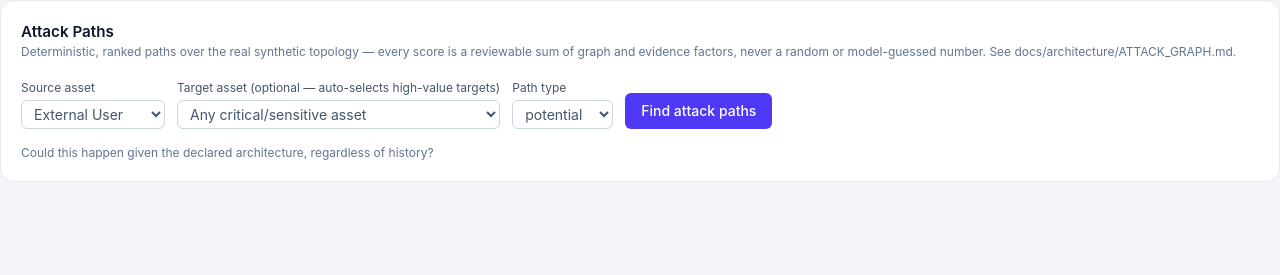
Test: Attack Paths panel › shows an empty state when no path is found
What coordinates should you click on to do the following:
click the button "Find attack paths"
I would click on:
 (699, 111)
Its box is [625,93,772,129].
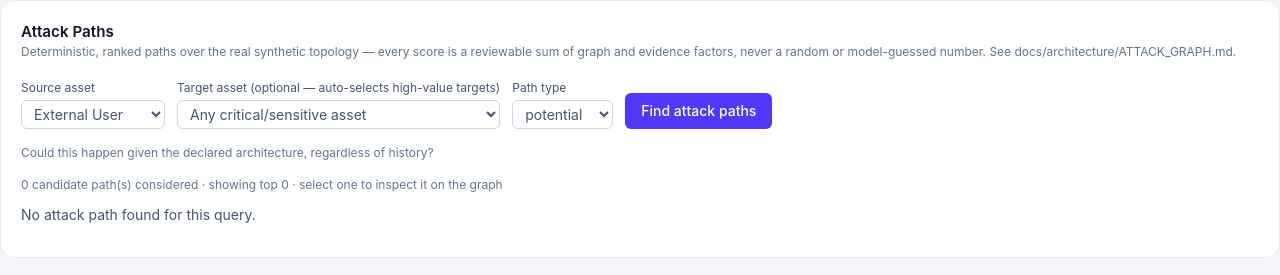
Expected: the text "No attack path found for this query." is shown, [21,206,256,223]
